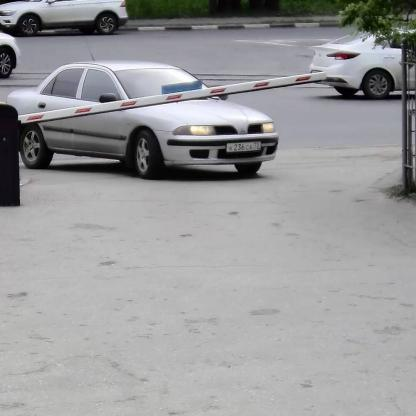plate: (226, 142, 261, 152)
